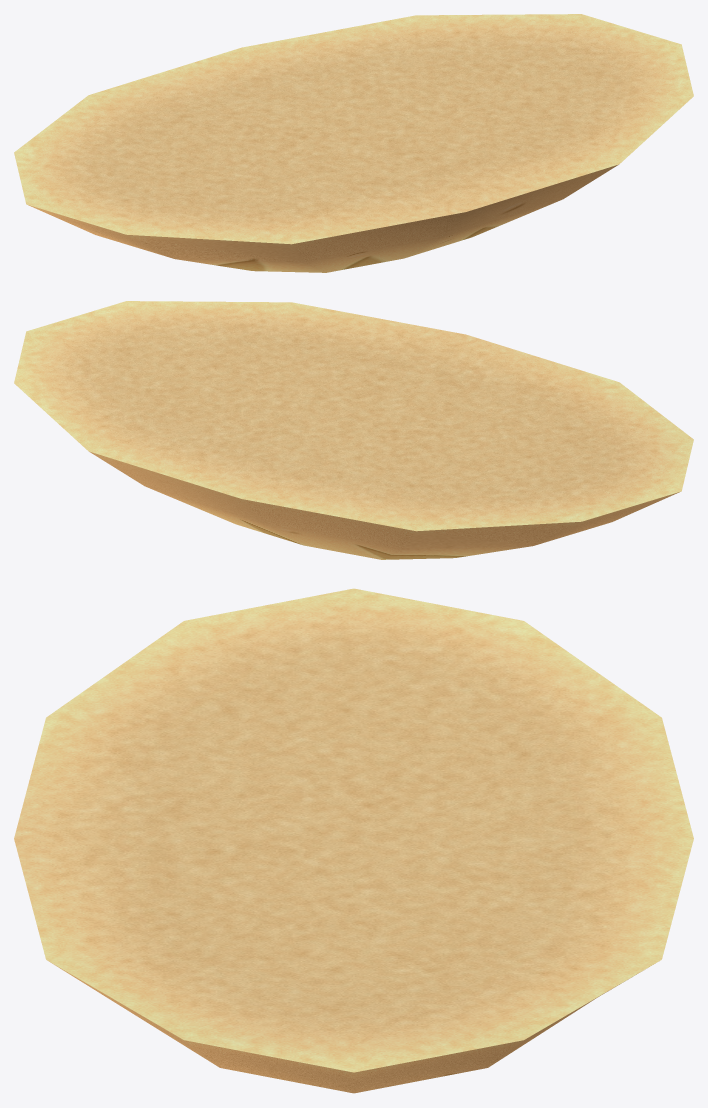
The model's file is bread_and_cream.fbx.
3 views of the same model, one above another, from view 1: azimuth 30°, elevation 25°; view 2: azimuth 150°, elevation 25°; view 3: azimuth 270°, elevation 25° (orthographic). The views are drawn at different scales.
Visible parts, largest first — view 1: bread_and_cream_mesh; view 2: bread_and_cream_mesh; view 3: bread_and_cream_mesh.
Part boxes in pixels (x1=…): bread_and_cream_mesh: x1=14, y1=14, x2=693, y2=272; bread_and_cream_mesh: x1=14, y1=301, x2=693, y2=559; bread_and_cream_mesh: x1=14, y1=588, x2=693, y2=1093.
Bounding box in the file's own units: 1.56 × 0.2538 × 0.9256.
